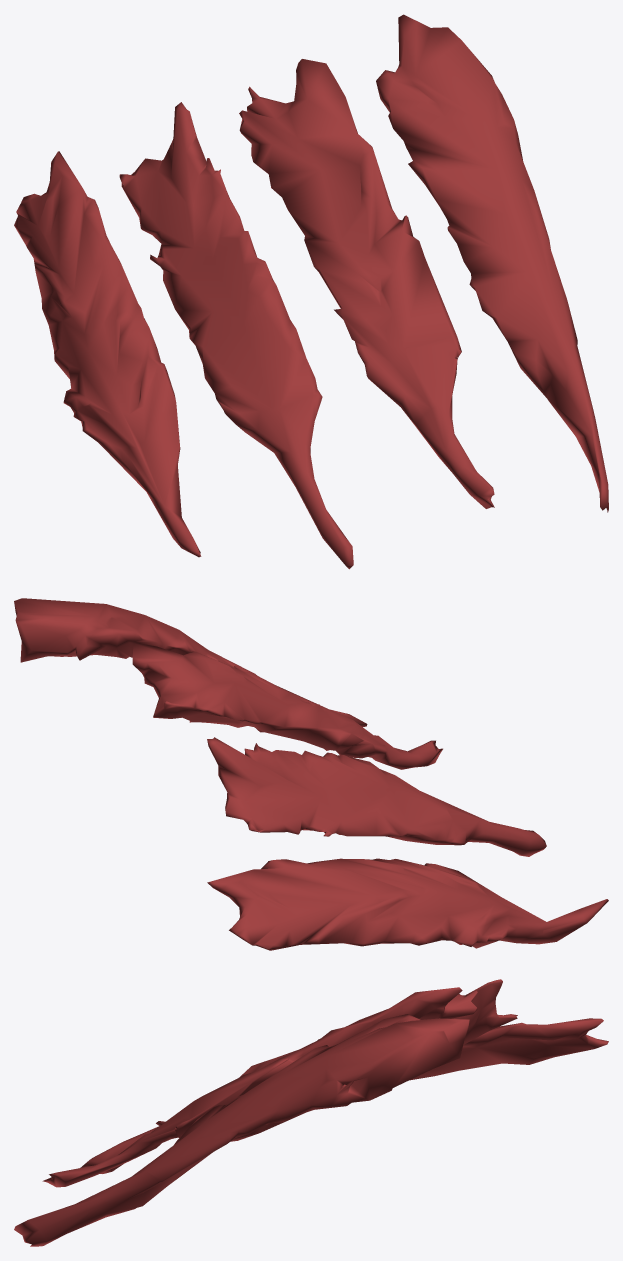
Rendered from dorsal-interossei-muscles-of-foot-r.glb.
3 renders of one model, top to bottom at view 1: azimuth 30°, elevation 25°; view 2: azimuth 150°, elevation 25°; view 3: azimuth 270°, elevation 25°, orthographic. The views are drawn at different scales.
Parts seen in each view (by area): view 1: Dorsal interossei muscles of foot.r; view 2: Dorsal interossei muscles of foot.r; view 3: Dorsal interossei muscles of foot.r.
Part boxes in pixels (x1,y1,x2,y2): Dorsal interossei muscles of foot.r: (14, 14, 608, 569); Dorsal interossei muscles of foot.r: (14, 598, 608, 950); Dorsal interossei muscles of foot.r: (14, 979, 608, 1246).
Size of the model in its own units: 0.0513 by 0.0369 by 0.0722.
